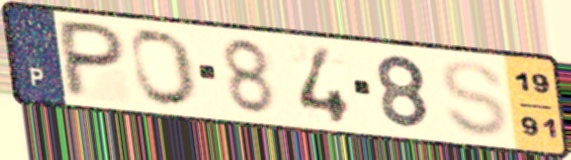4: (294, 42, 353, 125)
8: (218, 36, 281, 118), (374, 52, 434, 131)
O: (127, 26, 202, 109)
P: (58, 16, 129, 101)
S: (438, 58, 512, 140)
